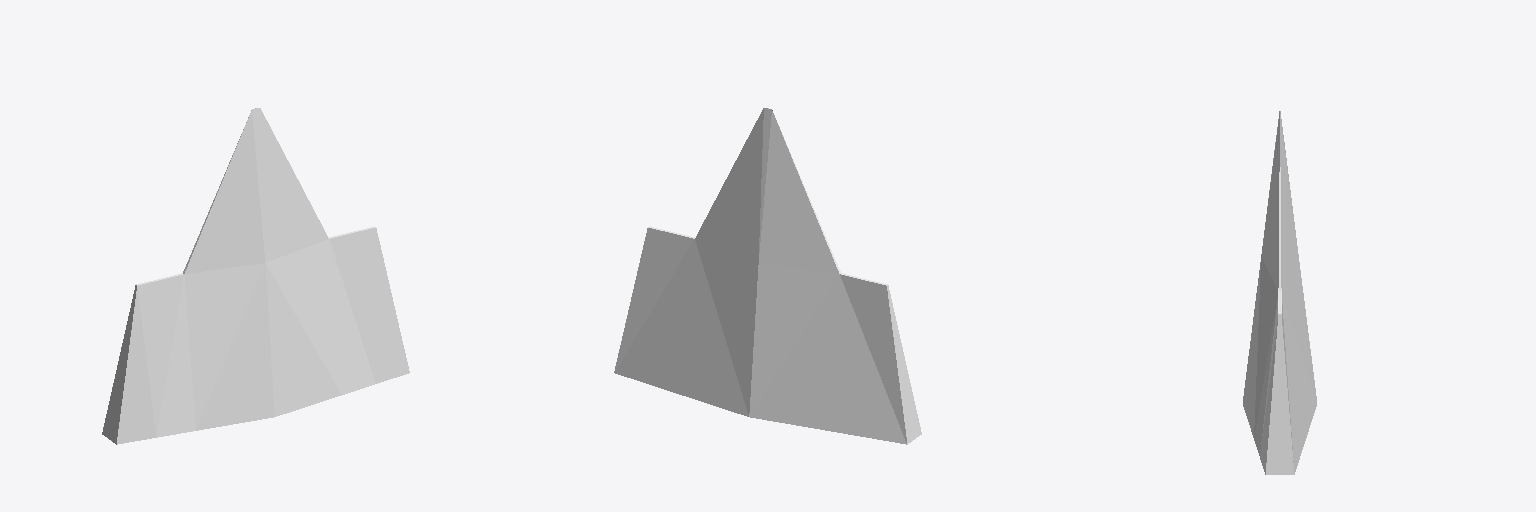
File: plain2.obj
3 renders of one model, left to right at view 1: azimuth 30°, elevation 25°; view 2: azimuth 150°, elevation 25°; view 3: azimuth 270°, elevation 25°, orthographic.
Visible parts, largest first — view 1: Cube1; view 2: Cube1; view 3: Cube1.
Part boxes in pixels (left/top/right/bottom): Cube1: left=102, top=108, right=409, bottom=444; Cube1: left=614, top=108, right=921, bottom=444; Cube1: left=1243, top=111, right=1316, bottom=474.
Size of the model in its own units: 0.9901 by 0.9515 by 0.2191.